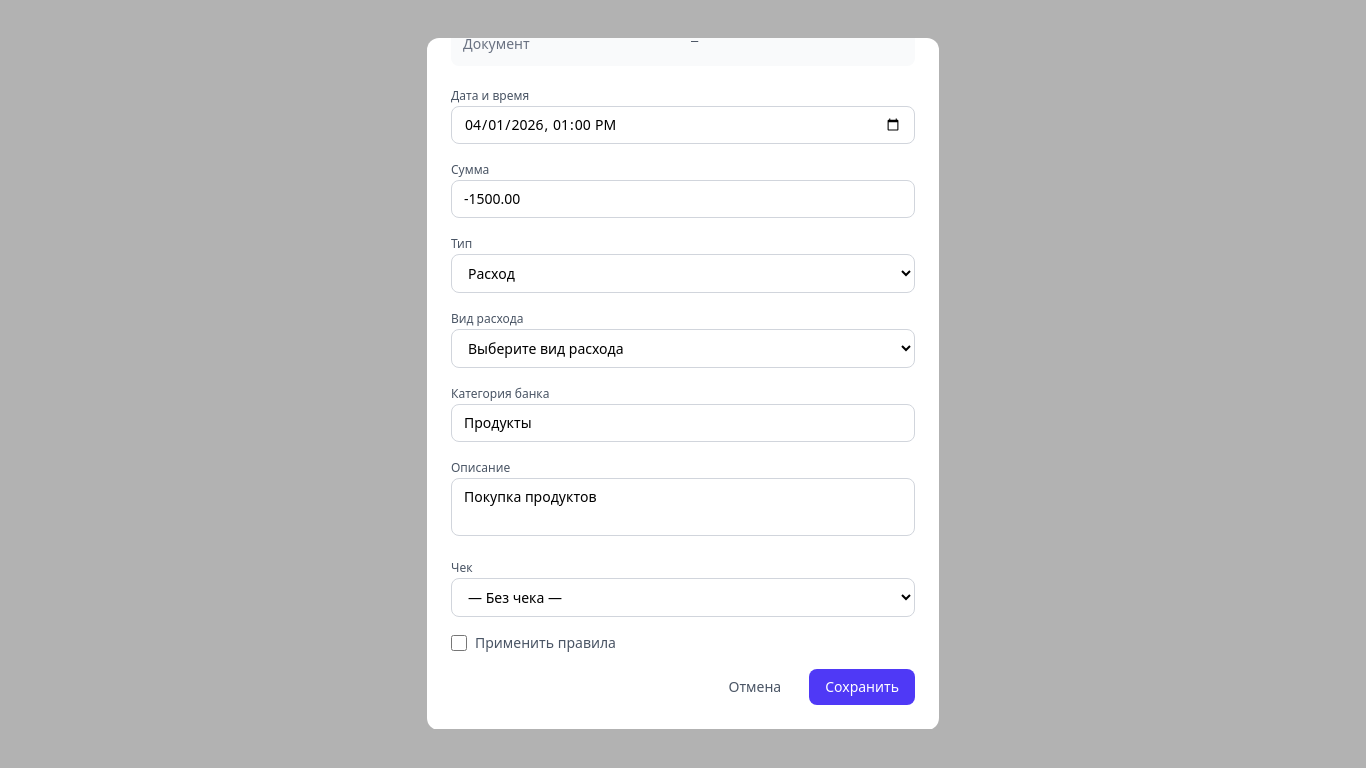
TransactionEditModal › shows error message when save fails
(page scrolled)
Click the button "Сохранить" at (862, 687), box 809,669 -> 915,705
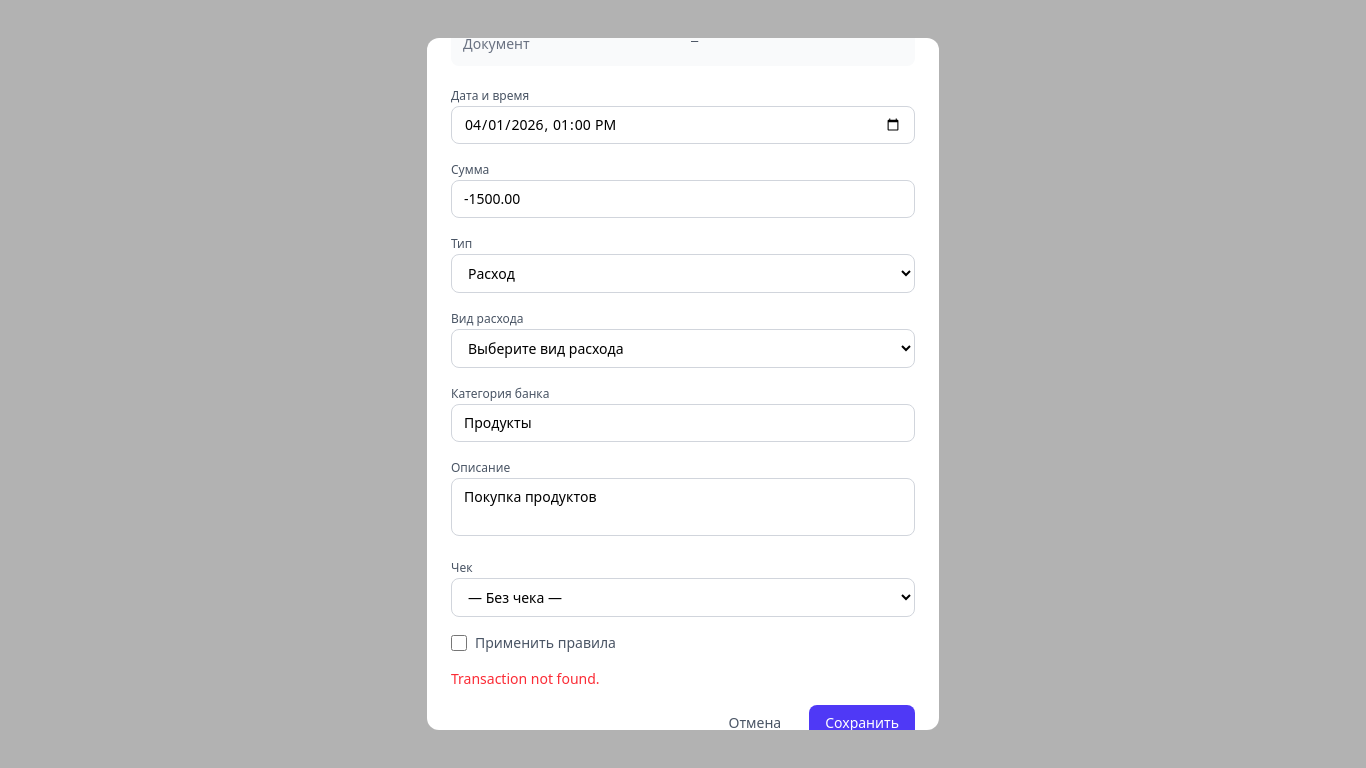
Check: the text "Transaction not found." is shown, box 451,669 -> 600,688
